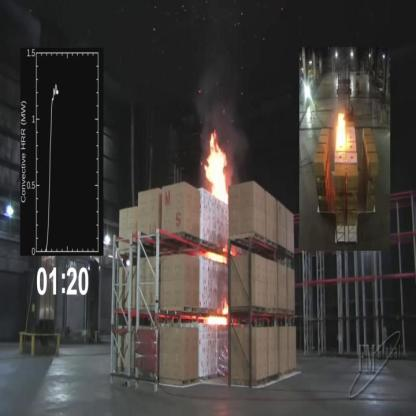fire: (201, 127, 236, 205)
